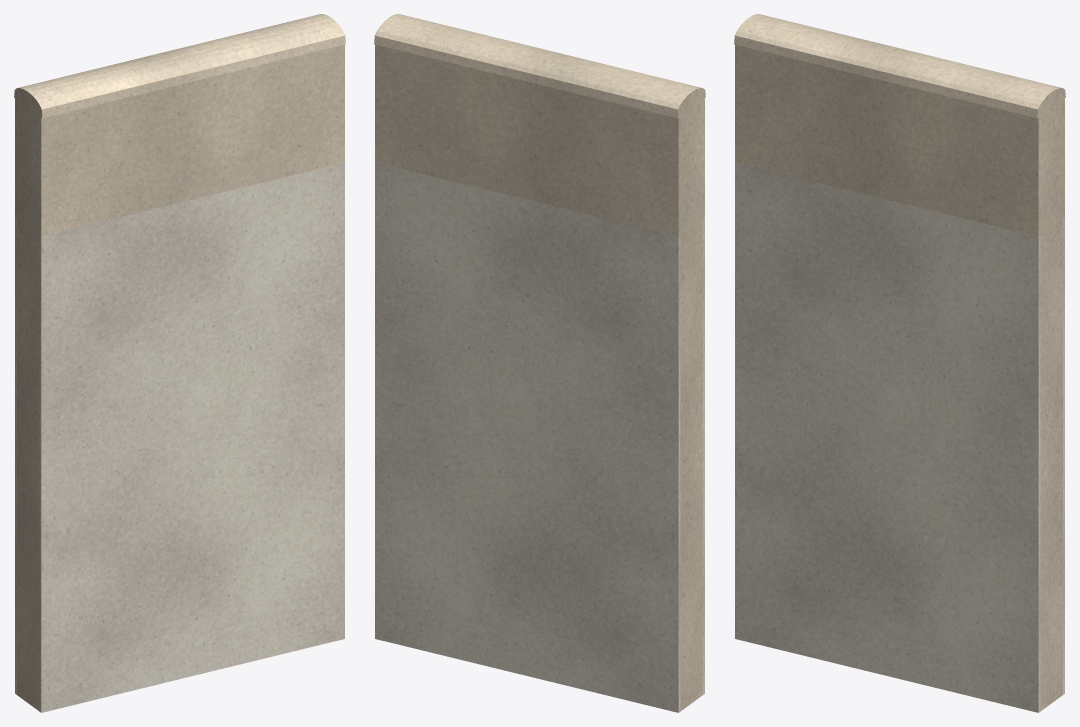
Rendered from party_wall.glb.
The picture shows the model from 3 angles, left to right: view 1: azimuth 30°, elevation 25°; view 2: azimuth 150°, elevation 25°; view 3: azimuth 330°, elevation 25°; orthographic projection.
Parts seen in each view (by area): view 1: party_wall_plaster, party_wall_render; view 2: party_wall_plaster, party_wall_render; view 3: party_wall_plaster, party_wall_render.
Part boxes in pixels (x1,y1,x2,y2): party_wall_plaster: (15,162,344,712); party_wall_render: (14,14,345,711); party_wall_plaster: (375,162,704,712); party_wall_render: (374,14,705,711); party_wall_plaster: (735,162,1064,712); party_wall_render: (734,14,1065,711).
Size of the model in its own units: 2 by 3.85 by 0.324.
Materials: 2 (2 with a texture image).
